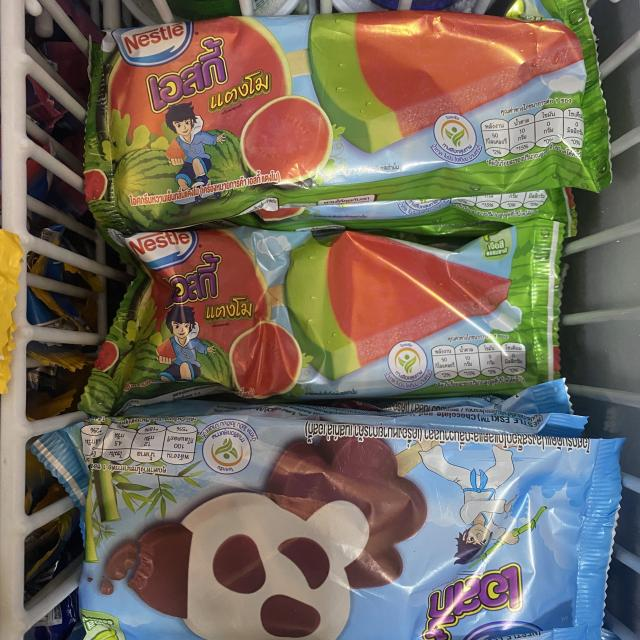plastik: (80, 412, 622, 640), (85, 0, 611, 232), (80, 220, 566, 416)
